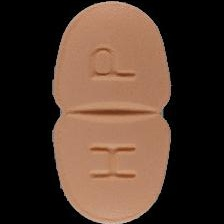63629-5117: (0, 0, 224, 224)
